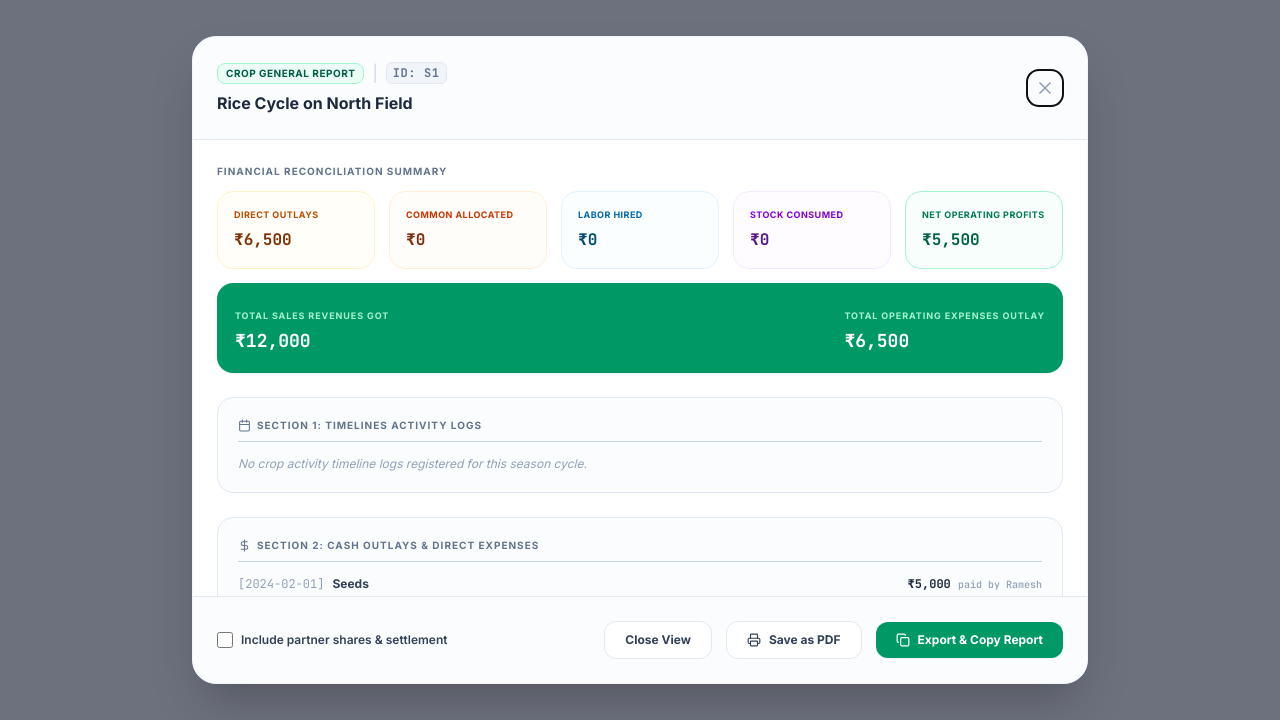
it: SeasonReportModal - Section 6: Partner Contributions › shows what each partner paid against their share of the cost
The image size is (1280, 720).
Click the checkbox labelled "Include partner shares & settlement". click: (225, 640)
box: [217,632,233,648]
(page scrolled)
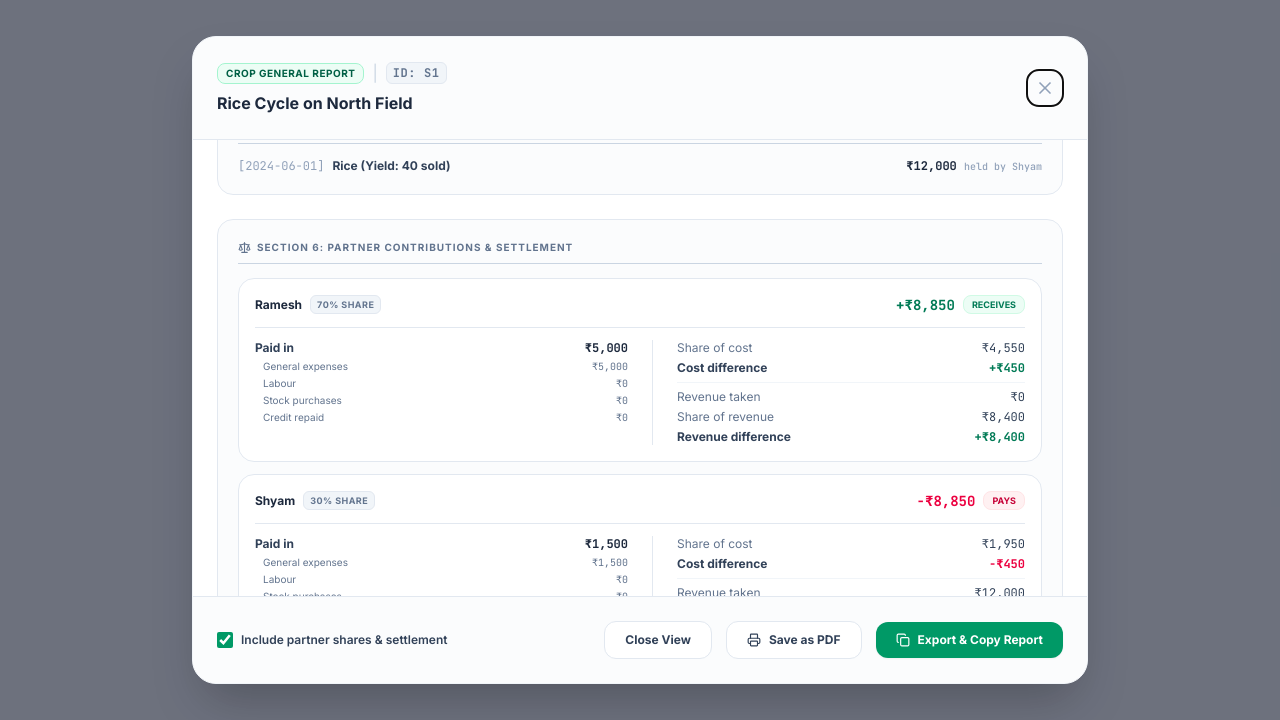
Expected: the text "₹4,550" is shown, [982,340,1025,356]
Expected: the text "+₹450" is shown, [989,360,1025,376]
